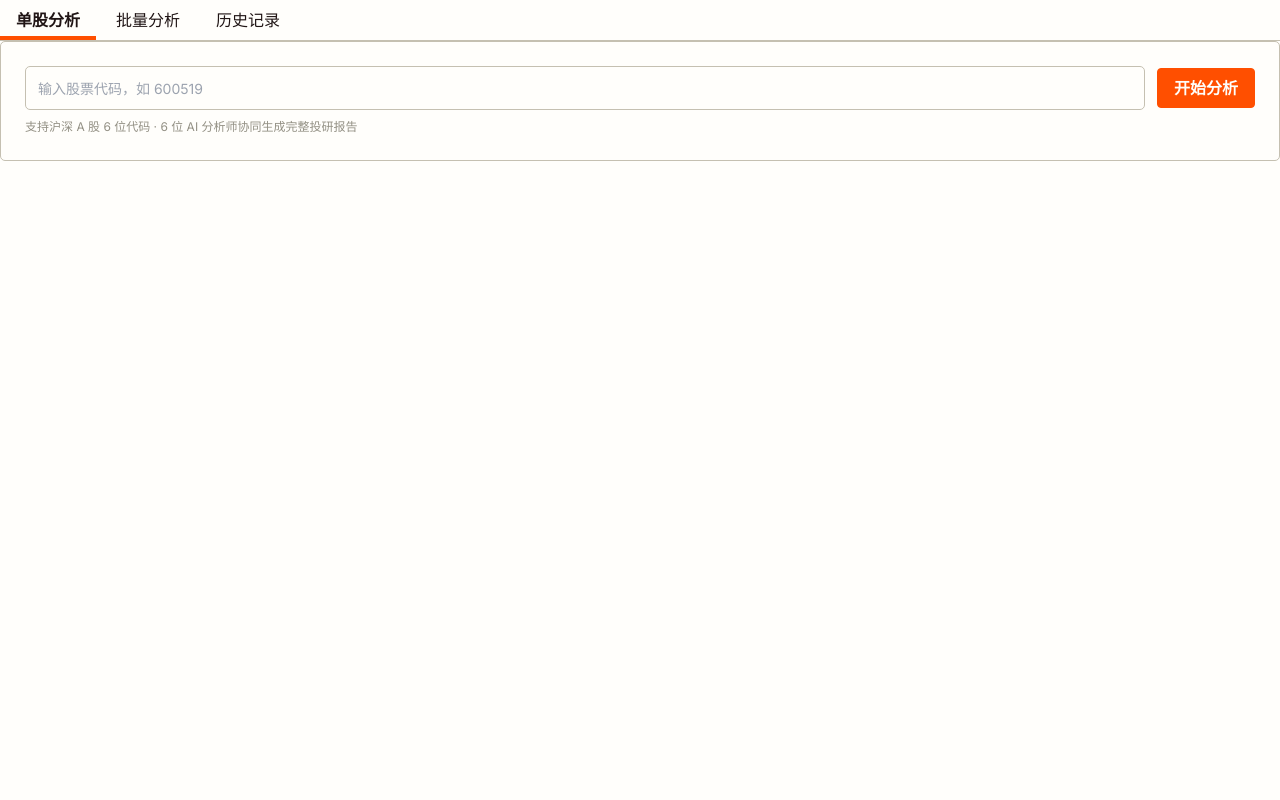
Test: Analysis progressive task rendering › requests the stock snapshot and renders its overview while the task is partial
The width and height of the screenshot is (1280, 800).
Type "600519" into the field with placeholder "输入股票代码，如 600519".
click(585, 88); type("600519")  # box [25,66,1145,110]
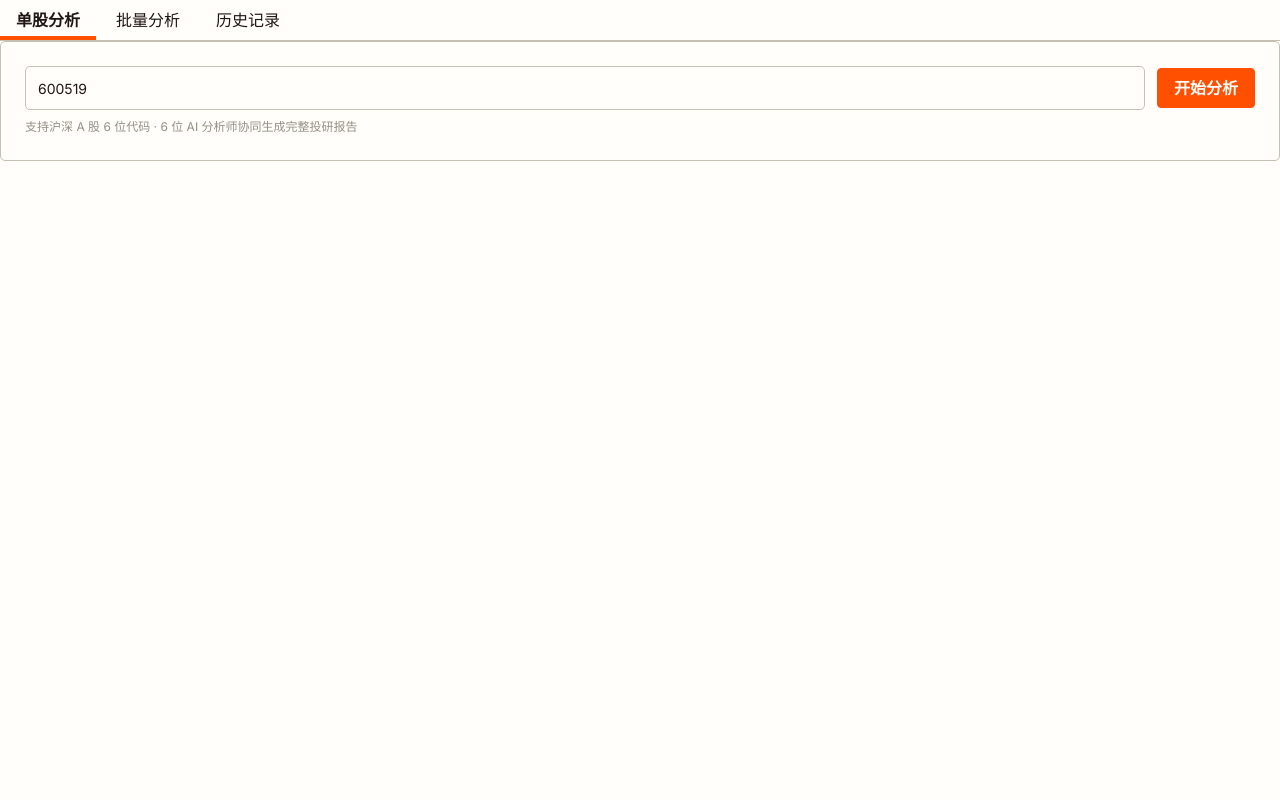
Click the button "开始分析".
click(1206, 88)  # box [1157,68,1255,108]
(page scrolled)
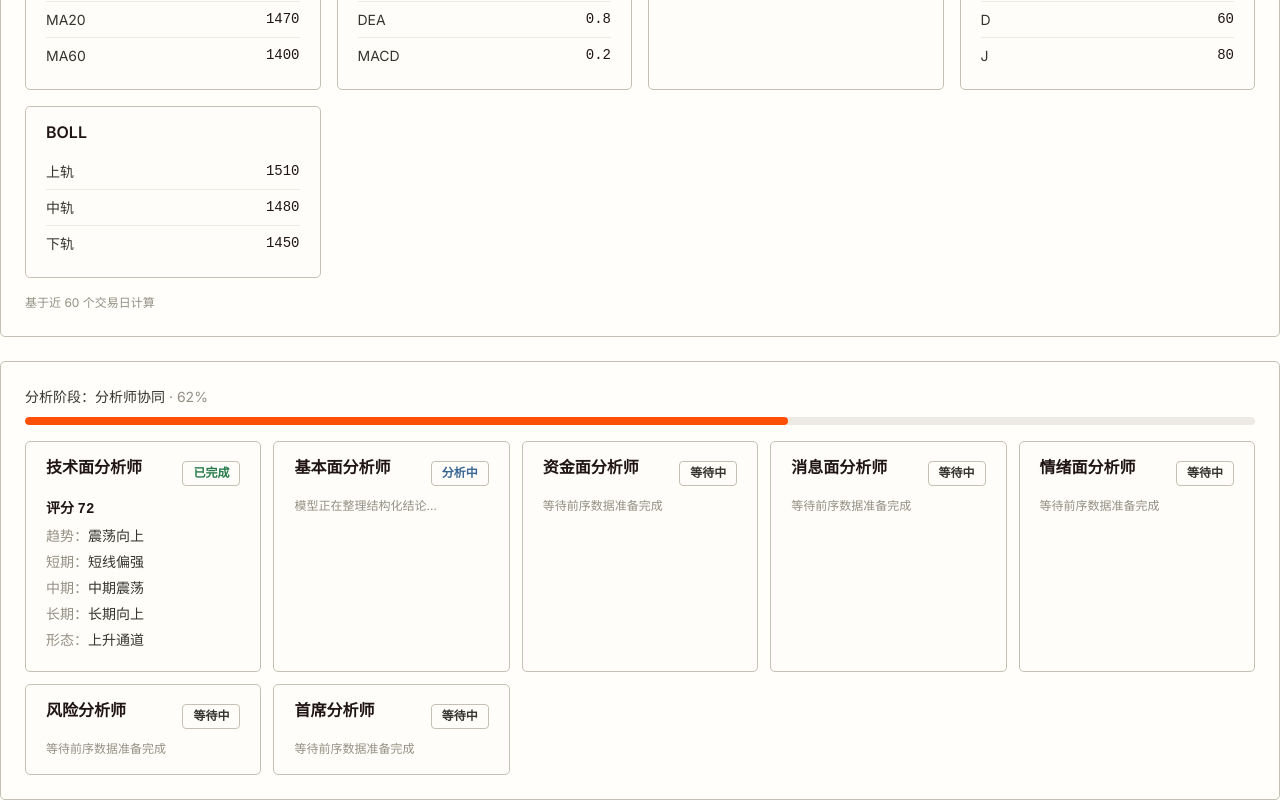
Expected: the text "震荡向上" is shown, [88,527,144,544]
